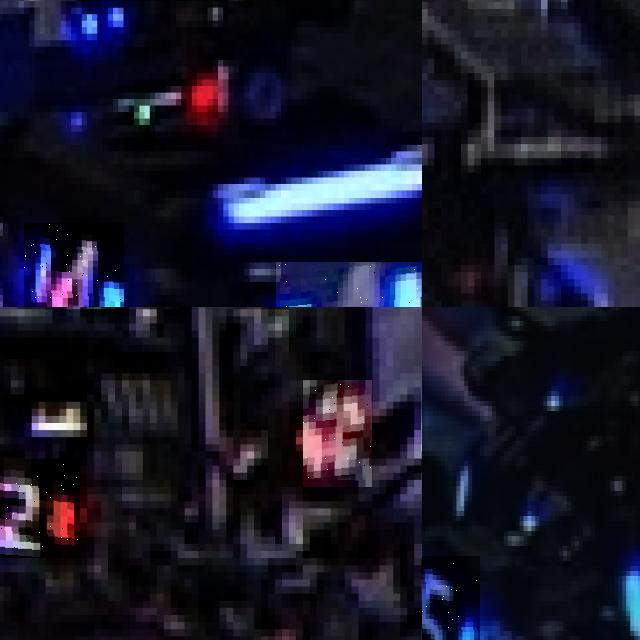B4: (24, 223, 123, 307), (276, 262, 422, 307)
B5: (422, 556, 480, 640)
R2: (0, 458, 80, 558), (303, 380, 372, 487)
